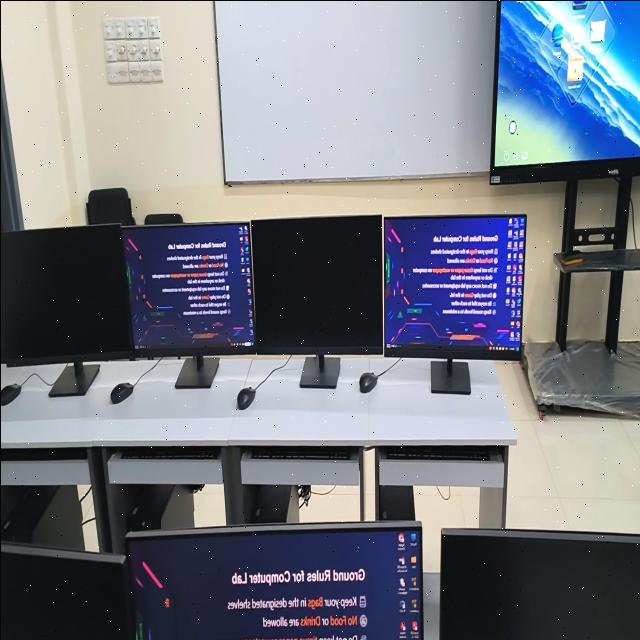Cpu: (0, 484, 84, 550), (127, 485, 193, 531), (242, 484, 298, 521), (379, 485, 415, 520)
Digital board: (490, 0, 640, 181)
Monitor: (126, 521, 422, 640), (439, 527, 640, 640), (251, 214, 381, 370), (384, 215, 525, 358), (0, 224, 133, 365), (122, 221, 253, 355), (0, 541, 134, 640), (29, 589, 44, 607)
Mouse: (110, 382, 132, 403), (0, 382, 20, 405), (236, 386, 255, 409), (358, 371, 377, 392)
